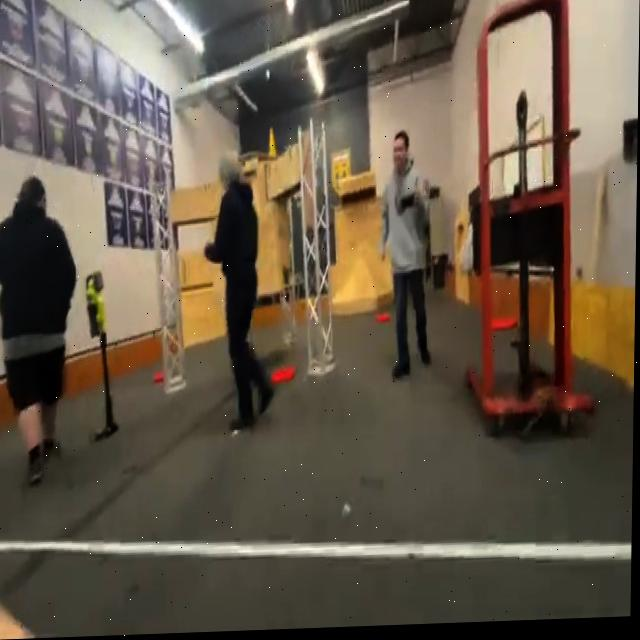note: (271, 365, 298, 388), (493, 319, 520, 339), (378, 311, 393, 331)
